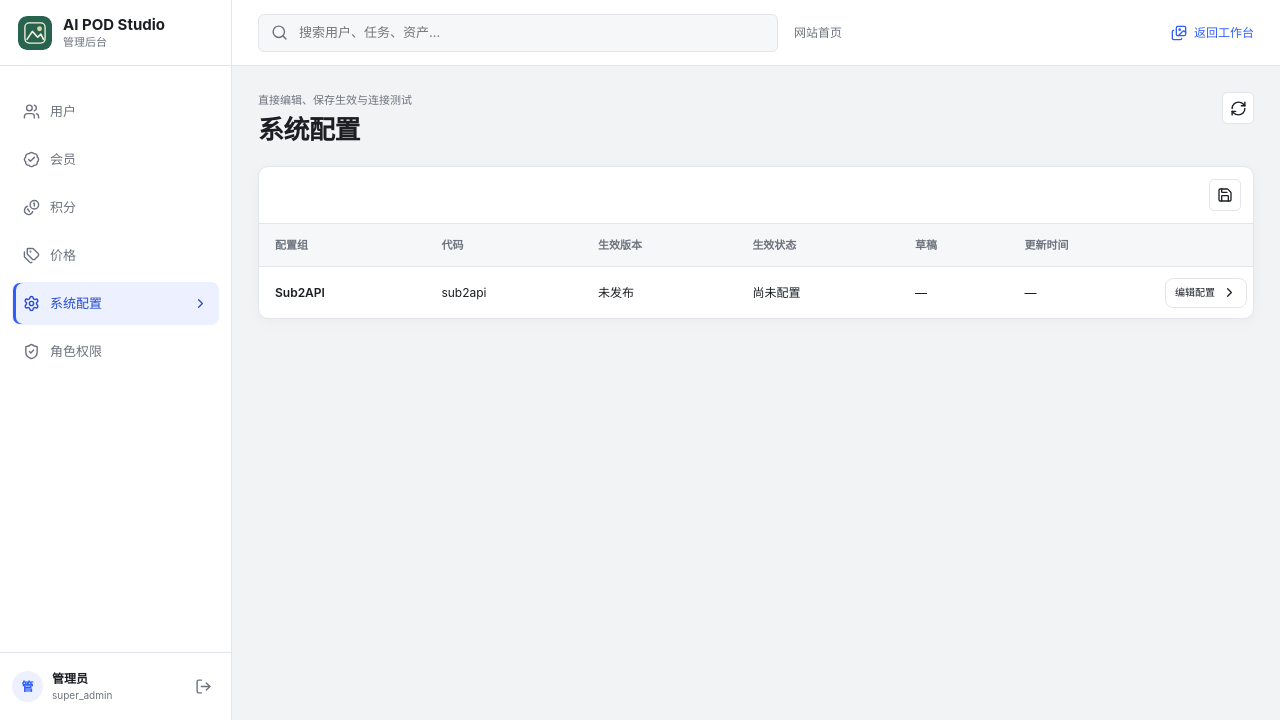
administrator configuration workflows › opens real config fields for a super admin and saves without an approval request
This screenshot has width=1280, height=720.
Click the cell "Sub2API".
click(300, 292)  # box [259, 266, 425, 318]
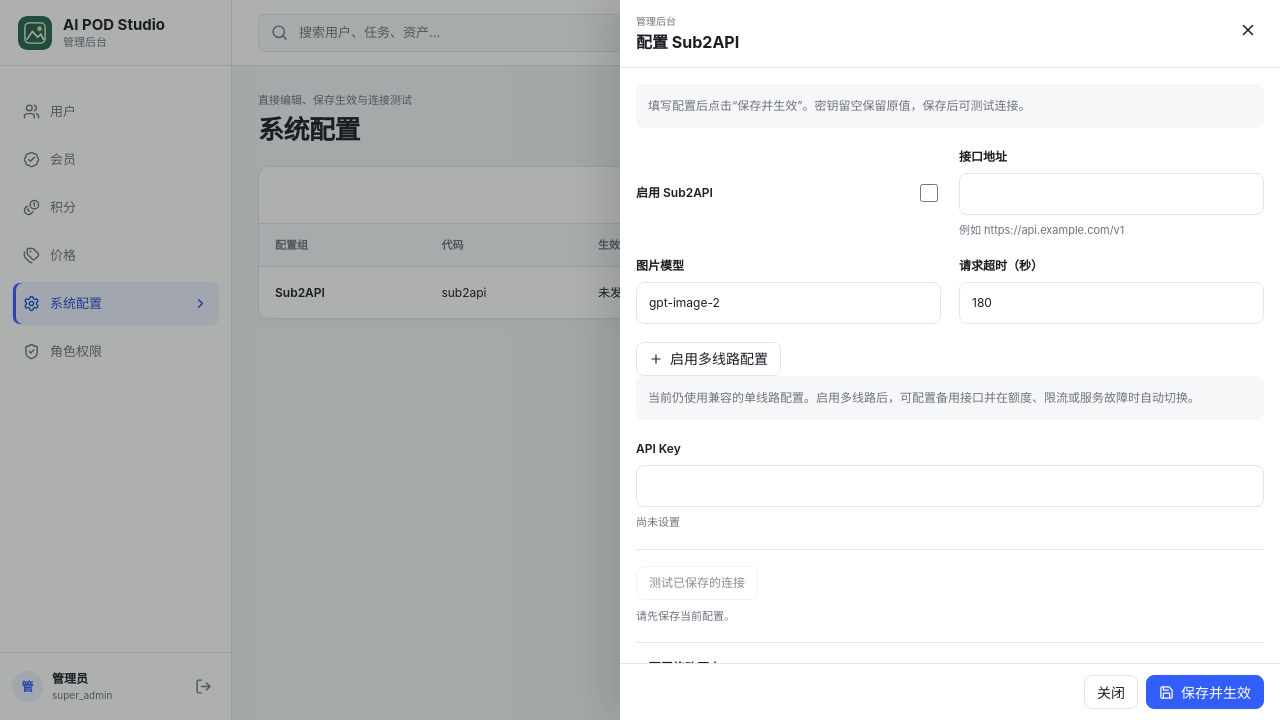
Check: the dialog "配置 Sub2API" is shown, box [620, 0, 1279, 719]
Click the checkbox labelled "启用 Sub2API".
click(929, 193)  # box [920, 184, 938, 202]
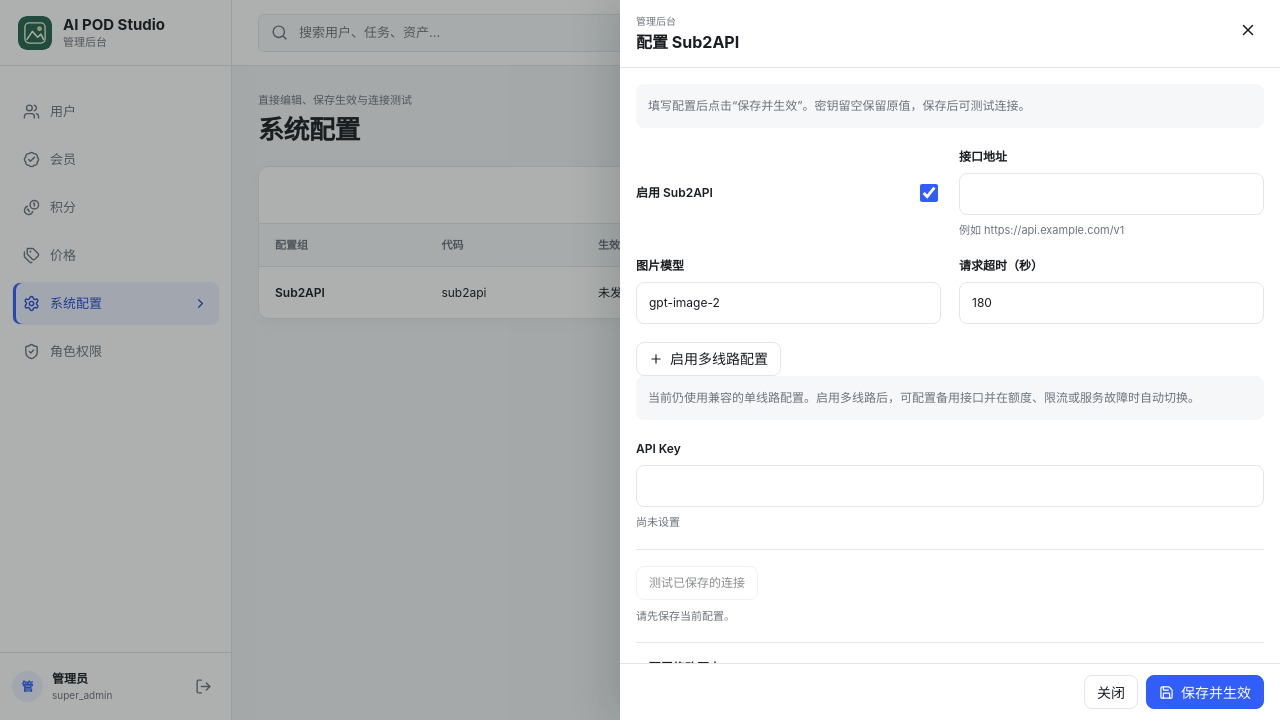
Type "https://api.example.test/v1" into the field labelled "接口地址 例如 https://api.example.com/v1".
click(1112, 194); type("https://api.example.test/v1")  # box [959, 173, 1264, 215]
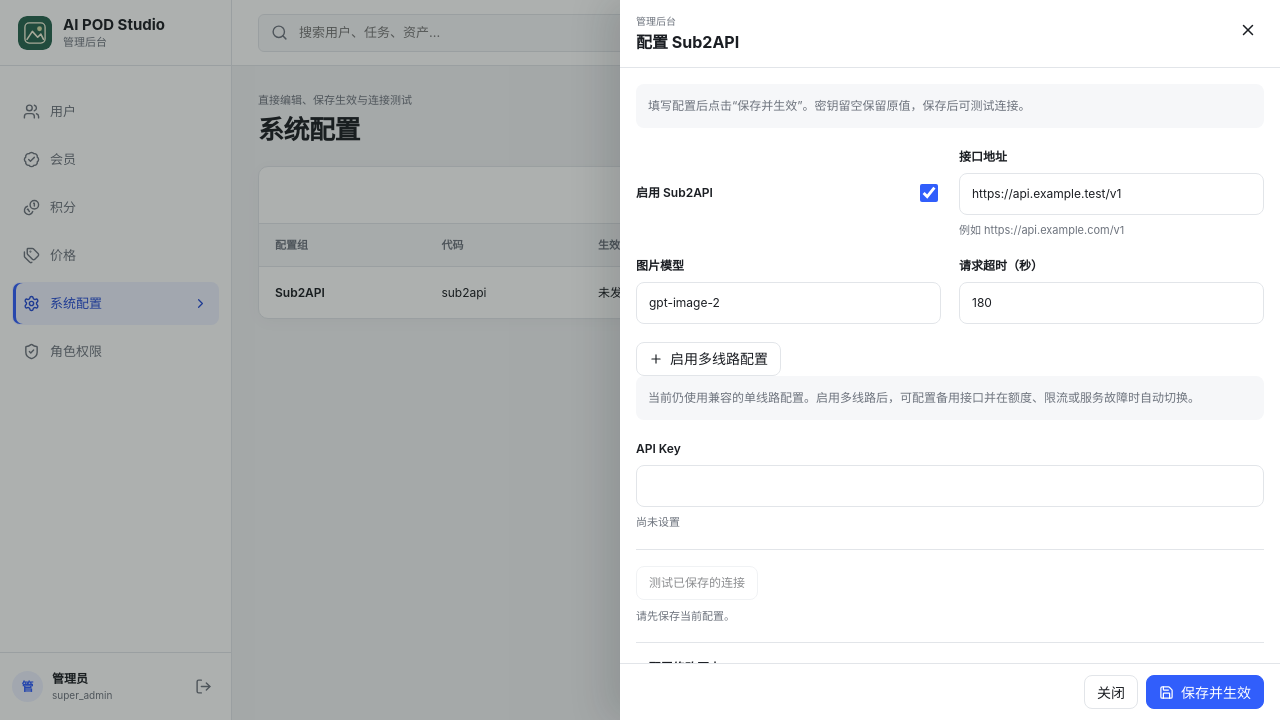
Type "new-secret" into the password field labelled "API Key 尚未设置".
click(950, 486); type("new-secret")  # box [636, 465, 1264, 507]
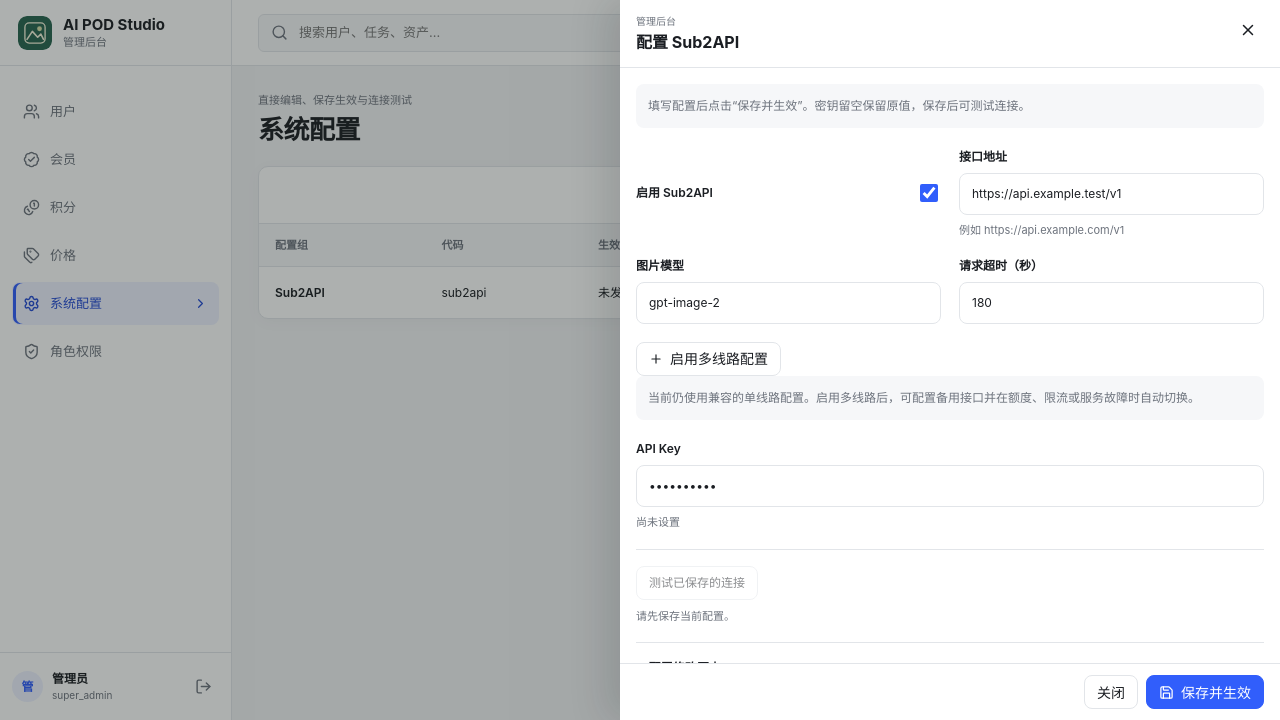
Click the button "保存并生效".
click(1205, 692)  # box [1146, 675, 1264, 709]
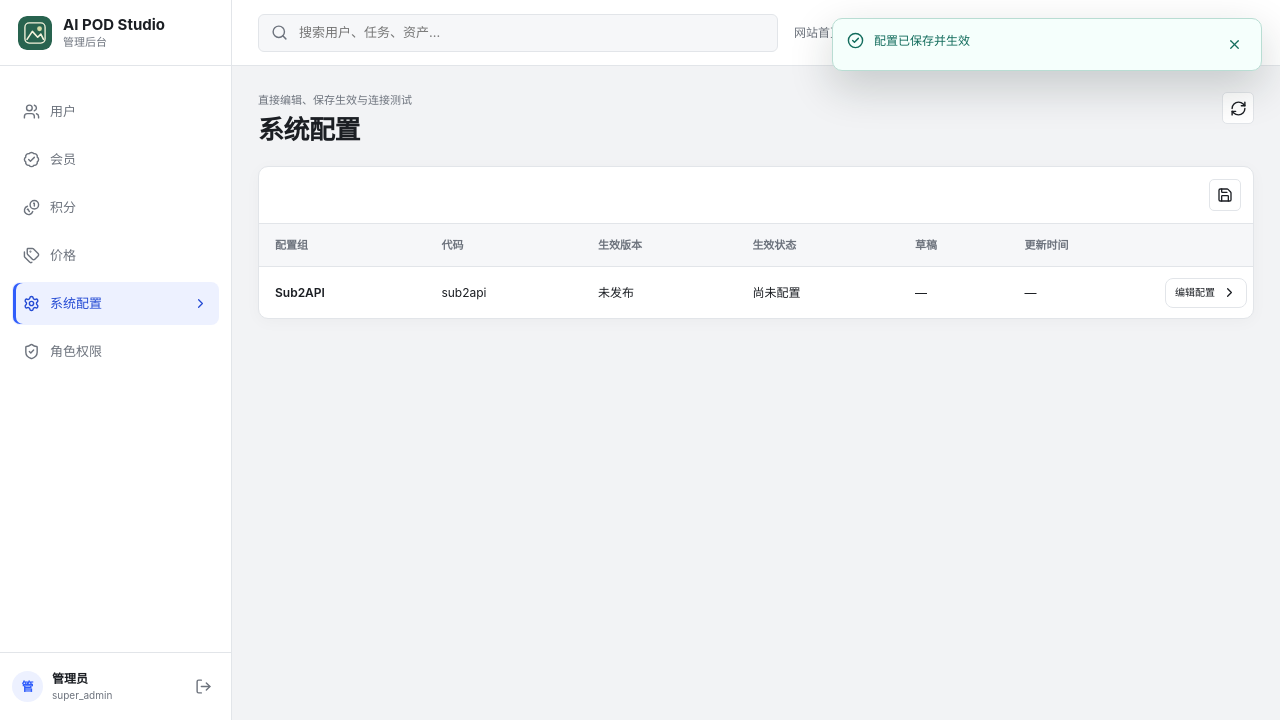
Check: the text "配置已保存并生效" is shown, box [874, 33, 970, 48]
